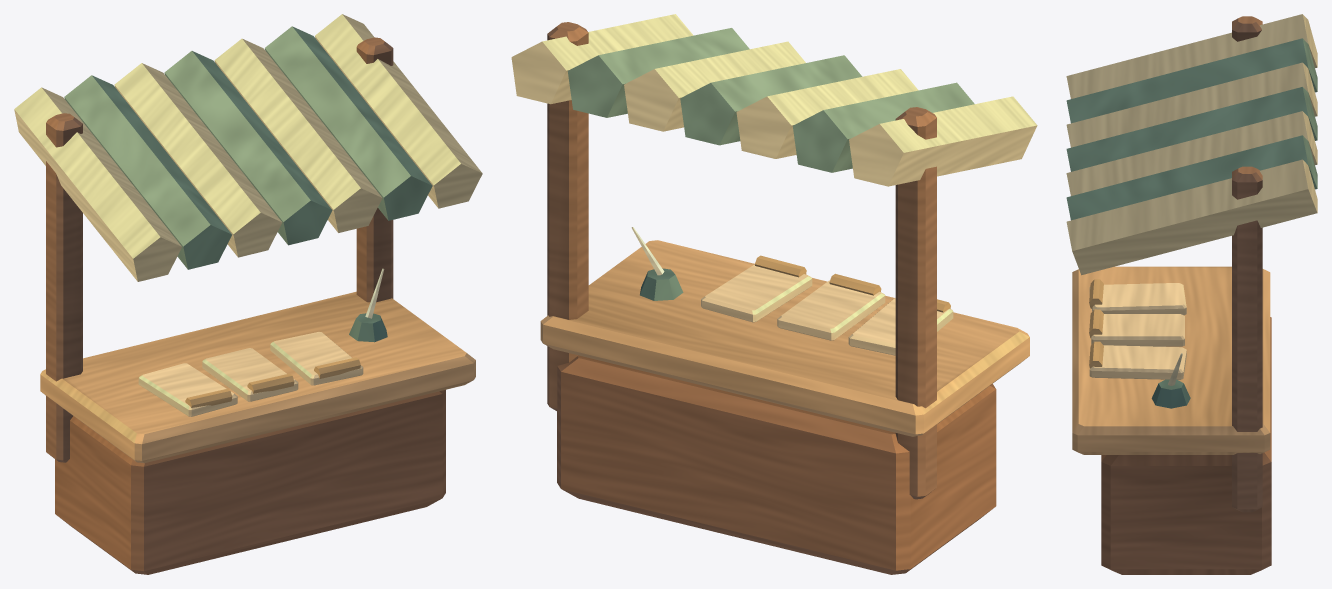
Rendered from pattern_stall.glb.
3 views of the same model, side by side, from view 1: azimuth 30°, elevation 25°; view 2: azimuth 150°, elevation 25°; view 3: azimuth 270°, elevation 25° (orthographic). The views are drawn at different scales.
Parts seen in each view (by area): view 1: Bauplanstand · Tintenfass und Pergament; view 2: Bauplanstand · Tintenfass und Pergament; view 3: Bauplanstand · Tintenfass und Pergament.
Boxes of the visible parts, left/top/right/bottom form: Bauplanstand · Tintenfass und Pergament: left=14, top=14, right=482, bottom=574; Bauplanstand · Tintenfass und Pergament: left=511, top=14, right=1037, bottom=574; Bauplanstand · Tintenfass und Pergament: left=1066, top=14, right=1317, bottom=574.
Bounding box in the file's own units: 1.58 × 1.81 × 0.9885.
2 materials, 2 textured.
